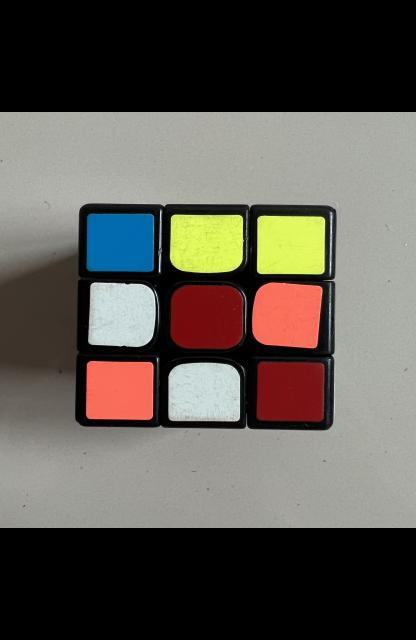Blue: (86, 214, 153, 271)
Orange: (252, 282, 322, 348), (84, 361, 153, 420)
Red: (169, 285, 243, 349), (256, 362, 323, 422)
White: (85, 282, 154, 347), (167, 362, 239, 422)
Yellow: (169, 215, 243, 272), (256, 215, 324, 274)
